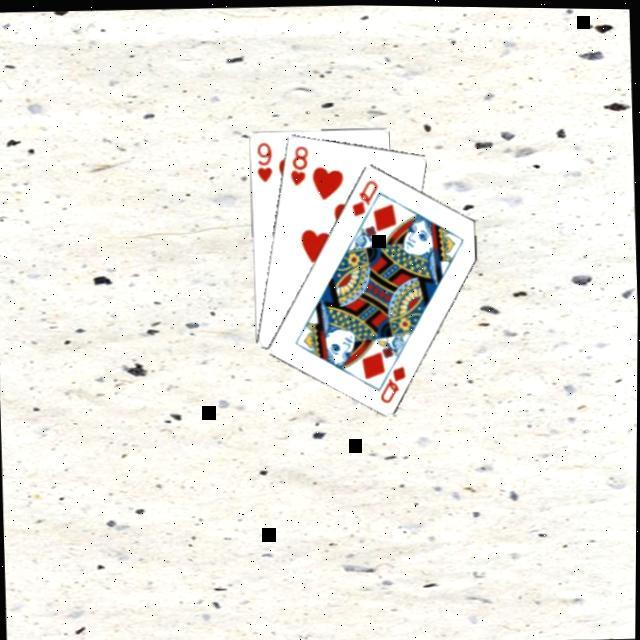8H: (285, 141, 311, 188)
9H: (252, 138, 274, 185)
QD: (348, 176, 380, 218), (376, 362, 408, 404)
